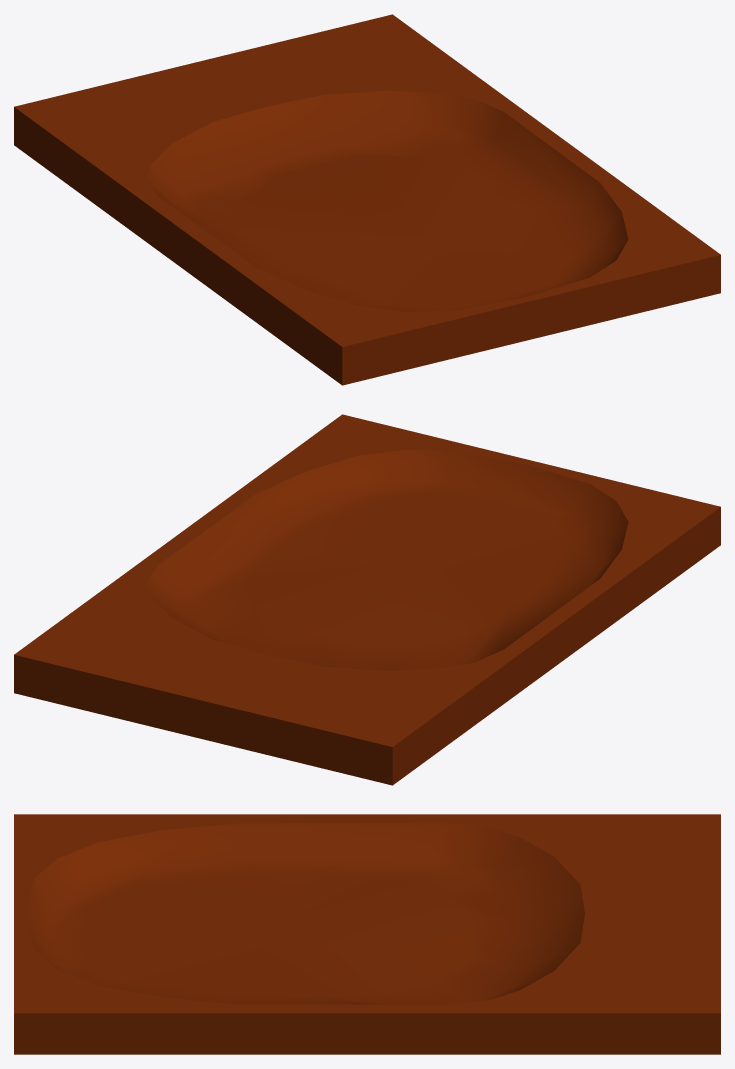
Rendered from inkslab.fbx.
3 views of the same model, one above another, from view 1: azimuth 30°, elevation 25°; view 2: azimuth 150°, elevation 25°; view 3: azimuth 270°, elevation 25° (orthographic). The views are drawn at different scales.
Parts seen in each view (by area): view 1: pCube14; view 2: pCube14; view 3: pCube14.
Boxes of the visible parts, x1,y1,x2,y2 form: pCube14: (14, 14, 720, 385); pCube14: (14, 414, 720, 785); pCube14: (14, 814, 720, 1054).
Size of the model in its own units: 3.73 by 0.3625 by 5.61.
